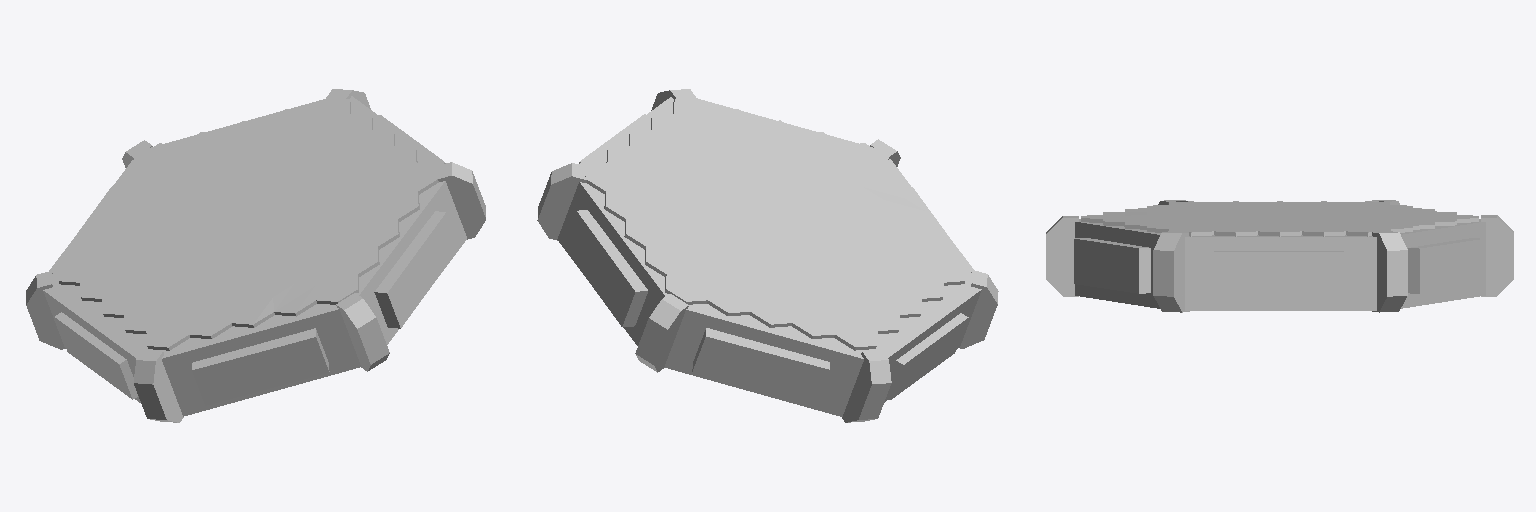
Rendered from stubesA2.obj.
3 renders of one model, left to right at view 1: azimuth 30°, elevation 25°; view 2: azimuth 150°, elevation 25°; view 3: azimuth 270°, elevation 25°, orthographic.
Visible parts, largest first — view 1: tubes,p=stand.001; view 2: tubes,p=stand.001; view 3: tubes,p=stand.001.
Part boxes in pixels (x1,y1,x2,y2): tubes,p=stand.001: (26,89,485,422); tubes,p=stand.001: (537,89,998,422); tubes,p=stand.001: (1046,200,1513,312).
Bounding box in the file's own units: 69.76 × 35.47 × 79.96.